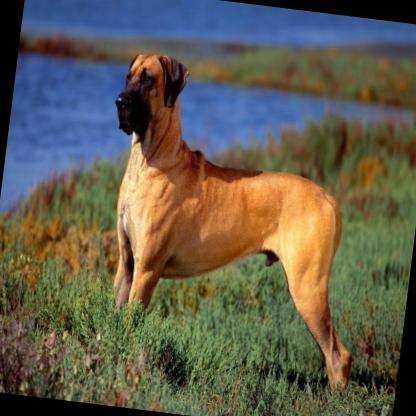Great_Dane: (82, 48, 384, 390)
